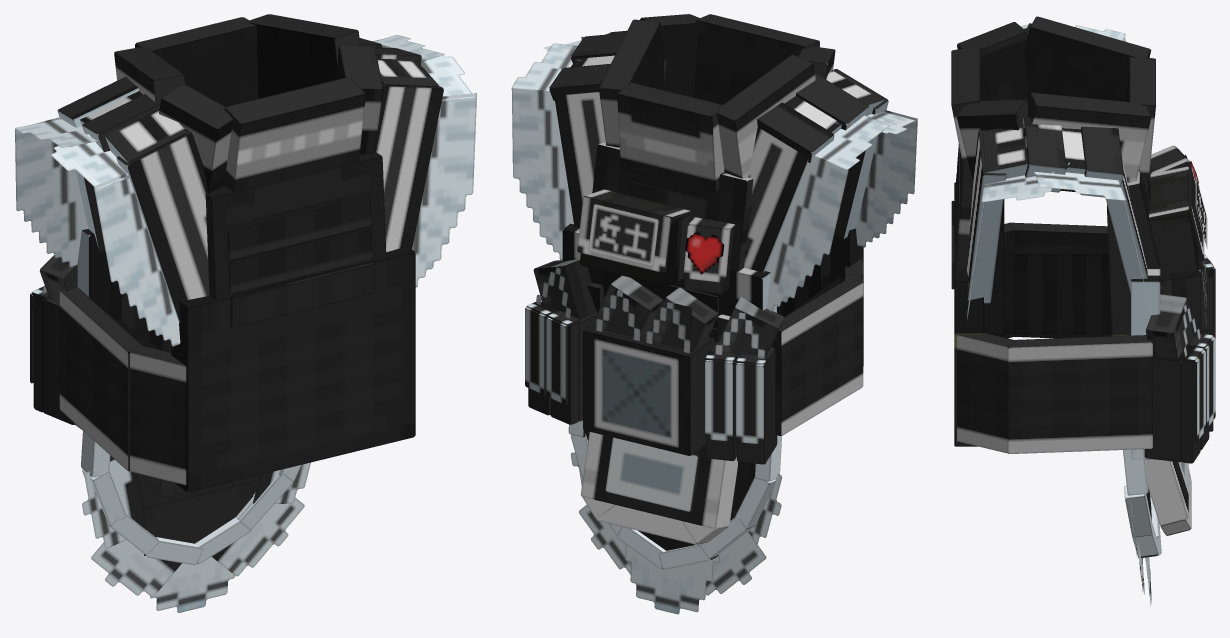
The model's file is maid.obj.
The picture shows the model from 3 angles, left to right: view 1: azimuth 30°, elevation 25°; view 2: azimuth 150°, elevation 25°; view 3: azimuth 270°, elevation 25°; orthographic projection. The views are drawn at different scales.
Visible parts, largest first — view 1: plane; view 2: plane; view 3: plane.
Part boxes in pixels (x1=…): plane: x1=15, y1=14, x2=476, y2=612; plane: x1=511, y1=14, x2=917, y2=614; plane: x1=951, y1=16, x2=1215, y2=606.
Bounding box in the file's own units: 0.9038 × 1.27 × 0.5619.
